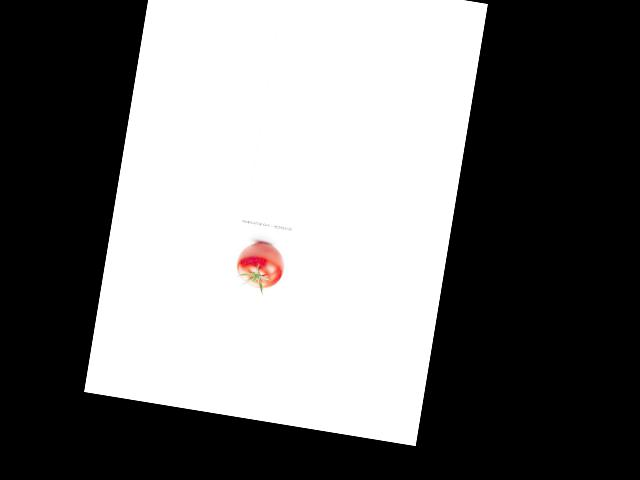tomato: (234, 239, 287, 291)
